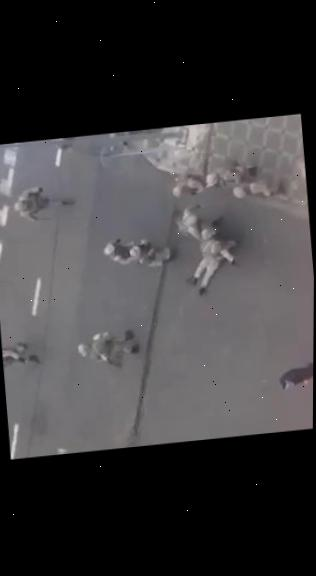person: (72, 318, 148, 369), (178, 241, 236, 300), (7, 176, 76, 225), (203, 152, 270, 188), (171, 198, 233, 234), (229, 174, 293, 206), (131, 233, 184, 268), (98, 226, 132, 268), (166, 170, 212, 201), (1, 335, 38, 371), (276, 358, 313, 392), (45, 132, 109, 149)
